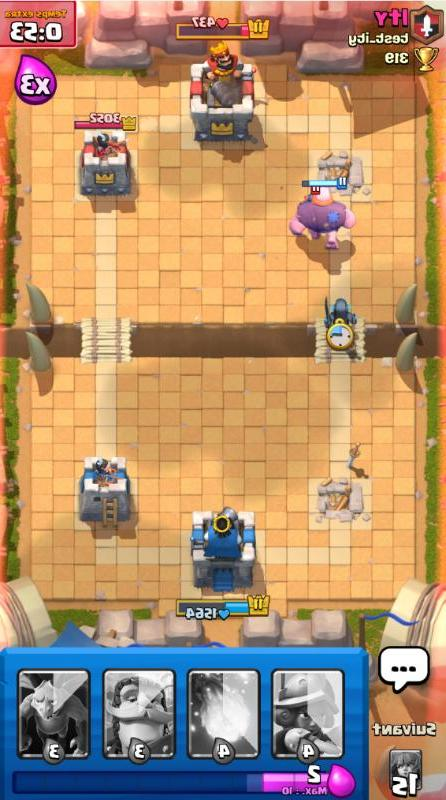geant: (289, 177, 357, 250)
mini_PEKKA: (324, 296, 357, 329), (297, 185, 320, 207)
